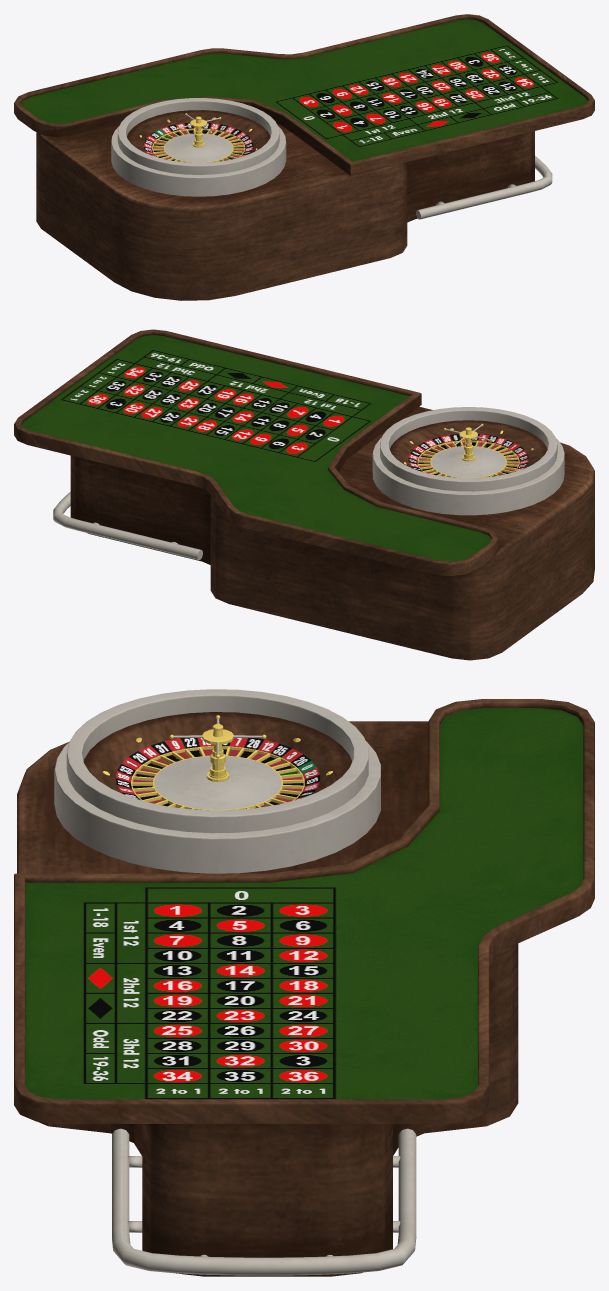
The model's file is roulette_table.glb.
3 renders of one model, top to bottom at view 1: azimuth 30°, elevation 25°; view 2: azimuth 150°, elevation 25°; view 3: azimuth 270°, elevation 25°, orthographic. The views are drawn at different scales.
Visible parts, largest first — view 1: Object_3, Object_2, Object_4; view 2: Object_3, Object_2, Object_4; view 3: Object_3, Object_2, Object_4.
Boxes of the visible parts, box(x1,y1,x2,y2) form: Object_3: box(14, 14, 594, 300); Object_2: box(21, 19, 587, 161); Object_4: box(144, 122, 253, 162); Object_3: box(14, 329, 594, 660); Object_2: box(22, 335, 491, 561); Object_4: box(408, 434, 528, 477); Object_3: box(14, 689, 594, 1276); Object_2: box(25, 708, 583, 1099); Object_4: box(115, 738, 319, 810).
Size of the model in its own units: 41.65 by 12.06 by 25.24.
Materials: 3 (3 with a texture image).
